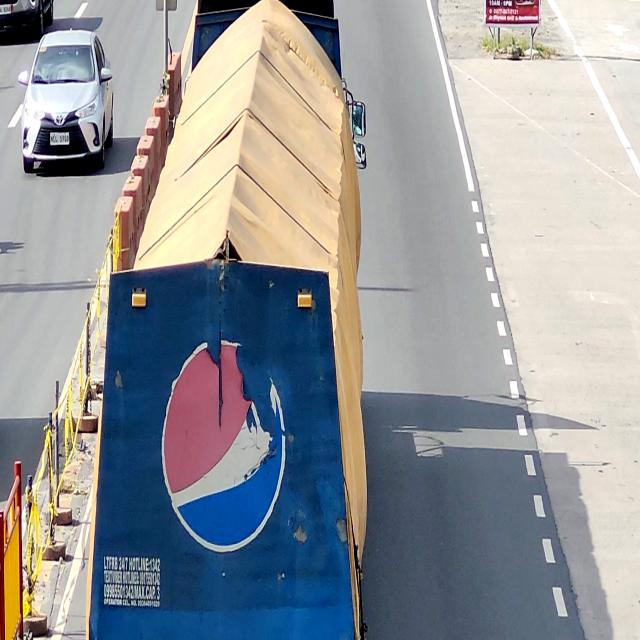Car: (18, 28, 114, 173)
License-Plate: (49, 130, 70, 147)
Truck: (85, 0, 370, 640)
